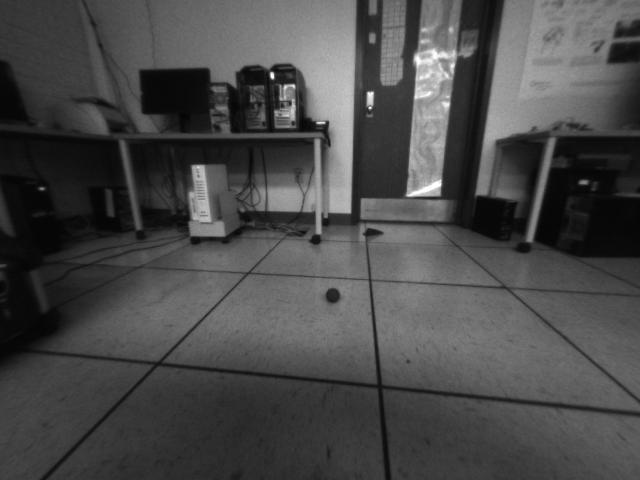dogtoy: (317, 282, 346, 306)
